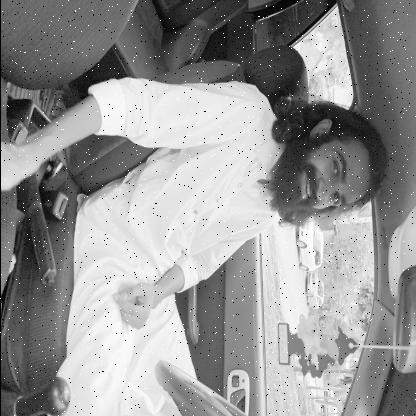no_seatbelt: (140, 102, 404, 250)
